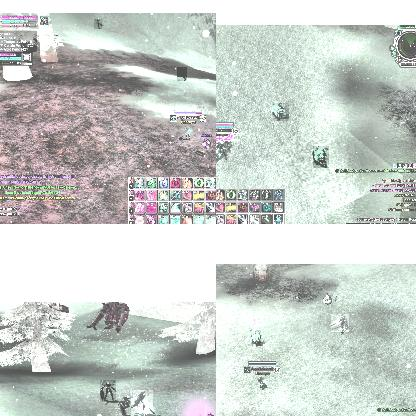caliana: (130, 390, 153, 416), (313, 146, 329, 168), (100, 380, 116, 402), (331, 314, 349, 332), (117, 395, 132, 416), (273, 103, 289, 121), (249, 330, 261, 346), (177, 67, 187, 81), (94, 19, 102, 29)
